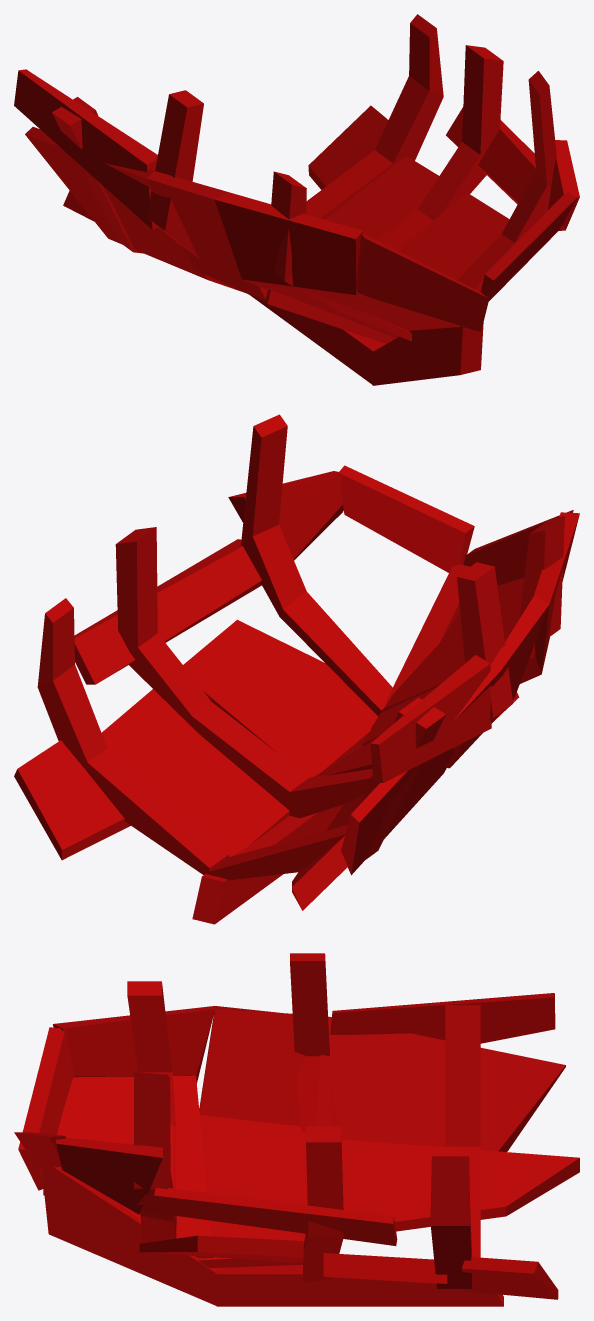
Rendered from SM_Prop_ShipWreck_01_Collision.gltf.
3 renders of one model, top to bottom at view 1: azimuth 30°, elevation 25°; view 2: azimuth 150°, elevation 25°; view 3: azimuth 270°, elevation 25°, orthographic. The views are drawn at different scales.
Parts seen in each view (by area): view 1: SM_Prop_ShipWreck_01_Collision; view 2: SM_Prop_ShipWreck_01_Collision; view 3: SM_Prop_ShipWreck_01_Collision.
Boxes of the visible parts, x1,y1,x2,y2 form: SM_Prop_ShipWreck_01_Collision: (14, 14, 579, 385); SM_Prop_ShipWreck_01_Collision: (14, 414, 579, 924); SM_Prop_ShipWreck_01_Collision: (14, 953, 579, 1306).
Size of the model in its own units: 8.45 by 6.35 by 11.34.
